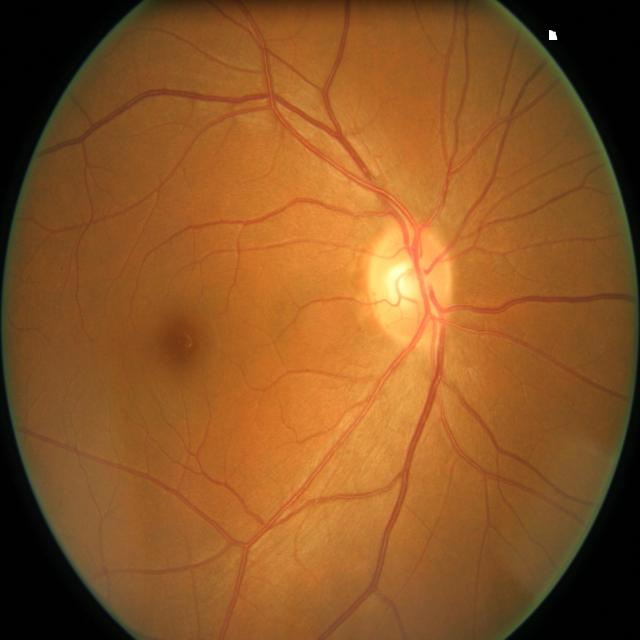OC: (387, 260, 429, 308)
OD: (370, 226, 456, 344)
